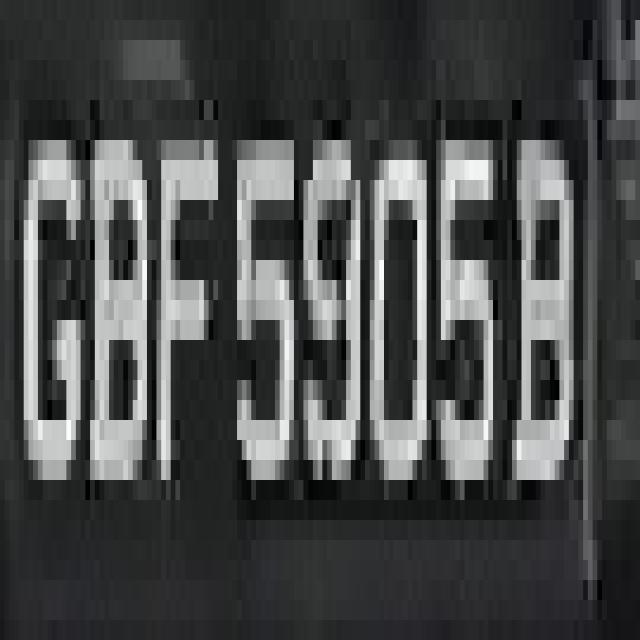0: (355, 60, 441, 520)
5: (223, 60, 303, 500), (427, 120, 493, 520)
9: (289, 80, 375, 560)
B: (498, 80, 588, 560), (80, 80, 156, 500)
F: (142, 80, 214, 580)
G: (10, 100, 90, 560)
